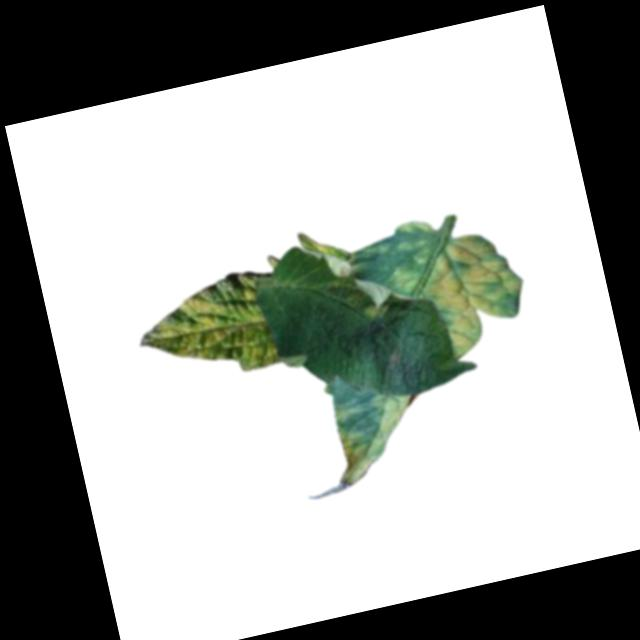Leaf_Mold: (127, 267, 280, 397), (416, 227, 538, 363), (330, 388, 431, 489), (383, 262, 419, 298), (360, 298, 396, 330)
